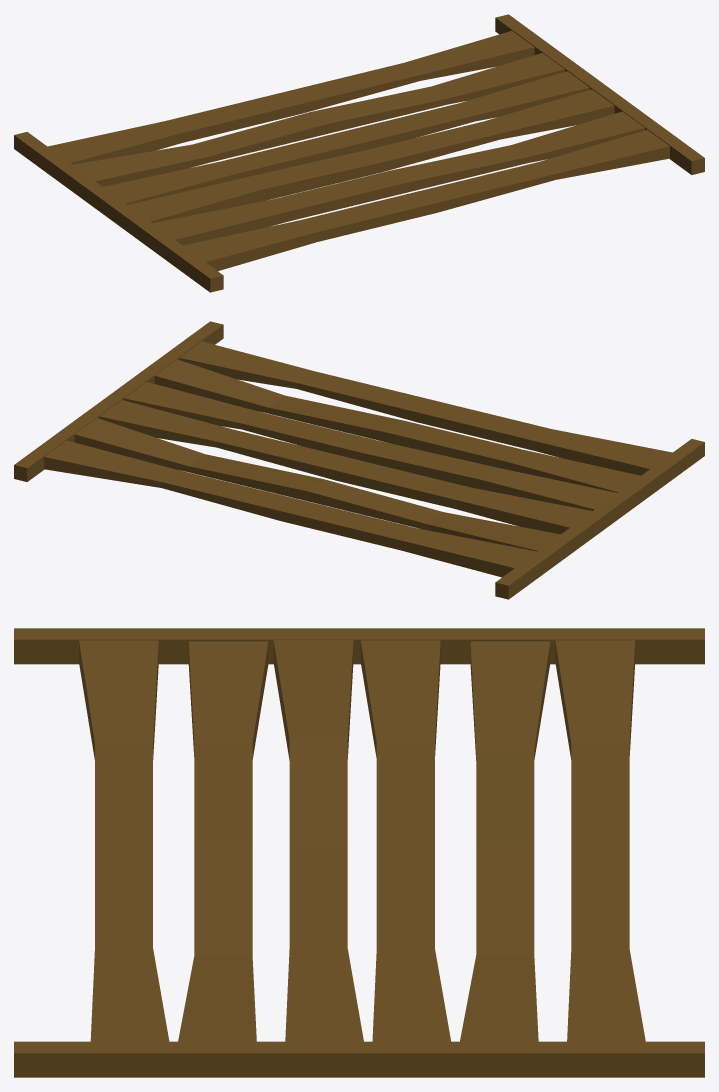
The model's file is BridgeElement1.fbx.
The picture shows the model from 3 angles, top to bottom: view 1: azimuth 30°, elevation 25°; view 2: azimuth 150°, elevation 25°; view 3: azimuth 270°, elevation 25°; orthographic projection. The views are drawn at different scales.
Parts seen in each view (by area): view 1: BridgeObject; view 2: BridgeObject; view 3: BridgeObject.
Boxes of the visible parts, x1,y1,x2,y2 form: BridgeObject: (14,14,704,292); BridgeObject: (14,321,704,599); BridgeObject: (14,628,704,1077).
Size of the model in its own units: 1037 by 28.2 by 713.
